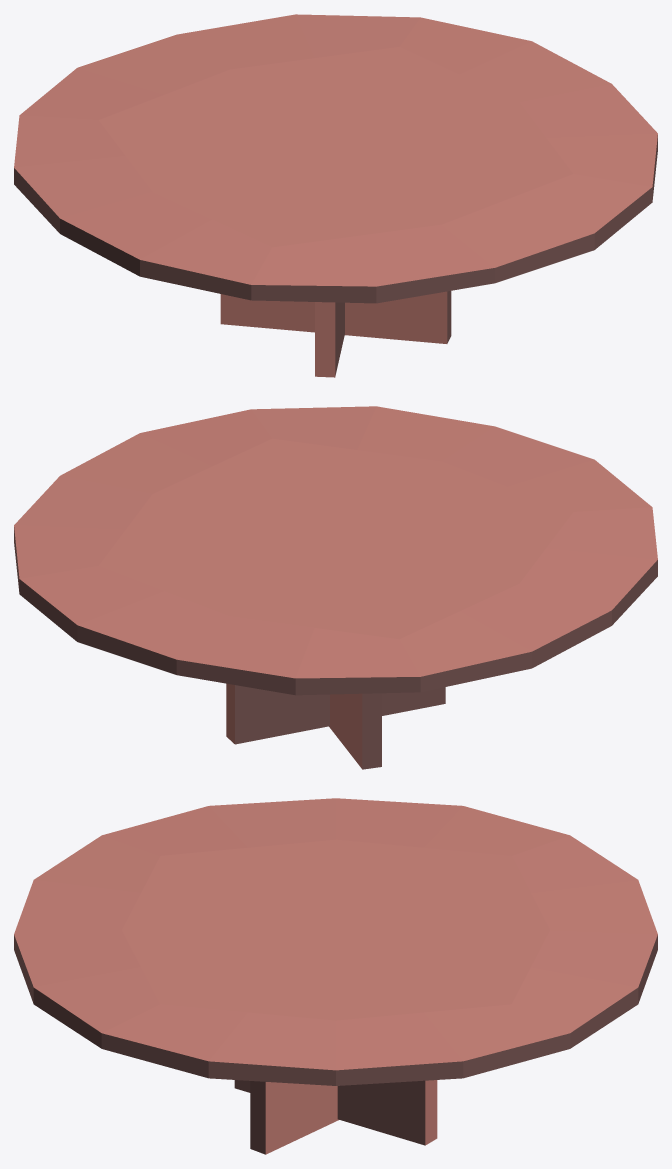
The model's file is Rounded Coffee Table.fbx.
The picture shows the model from 3 angles, top to bottom: view 1: azimuth 30°, elevation 25°; view 2: azimuth 150°, elevation 25°; view 3: azimuth 270°, elevation 25°; orthographic projection.
Parts seen in each view (by area): view 1: Rounded Coffee Table; view 2: Rounded Coffee Table; view 3: Rounded Coffee Table.
Boxes of the visible parts, box(x1,y1,x2,y2) form: Rounded Coffee Table: box(14, 14, 657, 377); Rounded Coffee Table: box(14, 406, 657, 769); Rounded Coffee Table: box(14, 798, 657, 1154).
Size of the model in its own units: 257 by 81.5 by 257.
